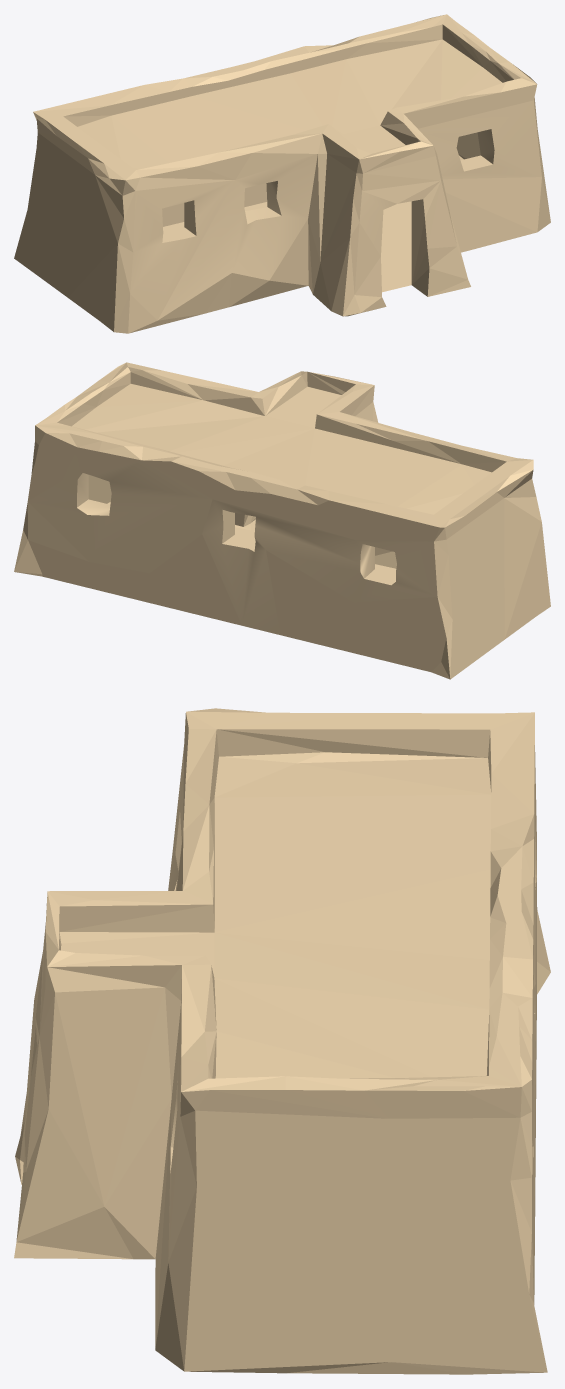
Rendered from House_Block_4_low.fbx.
3 renders of one model, top to bottom at view 1: azimuth 30°, elevation 25°; view 2: azimuth 150°, elevation 25°; view 3: azimuth 270°, elevation 25°, orthographic. The views are drawn at different scales.
Visible parts, largest first — view 1: House_Block_4_low; view 2: House_Block_4_low; view 3: House_Block_4_low.
Boxes of the visible parts, x1,y1,x2,y2 form: House_Block_4_low: (14, 14, 550, 333); House_Block_4_low: (14, 362, 550, 679); House_Block_4_low: (14, 708, 550, 1374).
Bounding box in the file's own units: 10.79 × 3.45 × 6.09.
